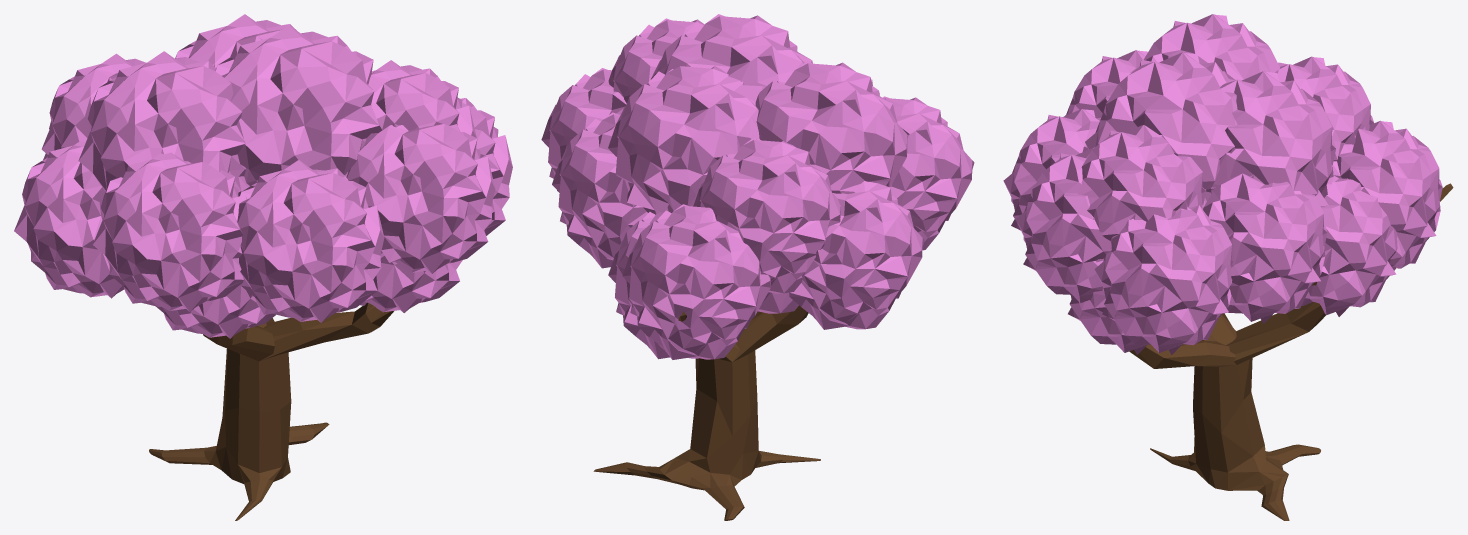
File: sakura tree.fbx
3 renders of one model, left to right at view 1: azimuth 30°, elevation 25°; view 2: azimuth 150°, elevation 25°; view 3: azimuth 270°, elevation 25°, orthographic. The views are drawn at different scales.
Visible parts, largest first — view 1: LowPoly Tree .033; view 2: LowPoly Tree .033; view 3: LowPoly Tree .033.
Part boxes in pixels (x1,y1,x2,y2): LowPoly Tree .033: (14, 14, 512, 520); LowPoly Tree .033: (541, 14, 974, 520); LowPoly Tree .033: (1003, 14, 1453, 520).
Size of the model in its own units: 234 by 237 by 231.
